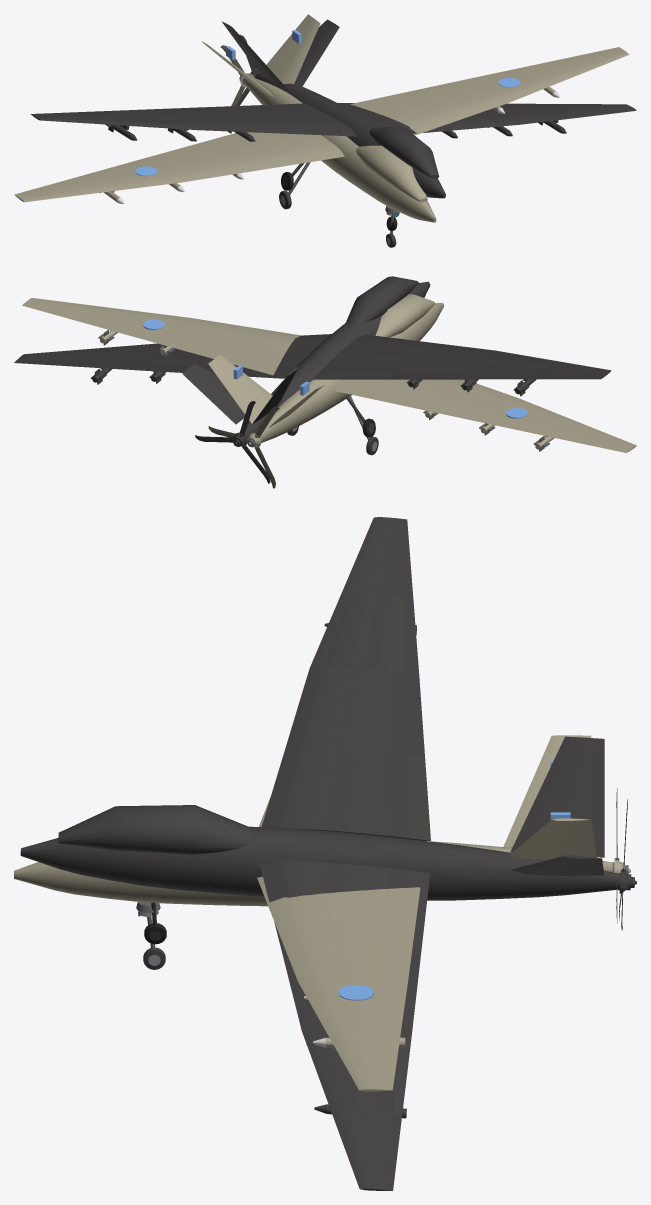
Rendered from drone__mq_9_reaper.glb.
3 renders of one model, top to bottom at view 1: azimuth 30°, elevation 25°; view 2: azimuth 150°, elevation 25°; view 3: azimuth 270°, elevation 25°, orthographic. The views are drawn at different scales.
Visible parts, largest first — view 1: Fuselage_Mesh, Wreck; view 2: Fuselage_Mesh, Wreck, Propeller_Mesh; view 3: Wreck, Fuselage_Mesh.
Part boxes in pixels (x1,y1,x2,y2): Fuselage_Mesh: (14, 14, 629, 247); Wreck: (30, 19, 636, 230); Fuselage_Mesh: (22, 294, 636, 455); Wreck: (14, 276, 611, 483); Propeller_Mesh: (208, 406, 279, 488); Wreck: (20, 517, 636, 1190); Fuselage_Mesh: (14, 735, 612, 1091).
Size of what is drawn, in the model's own units: 20.36 by 4.62 by 11.22.
